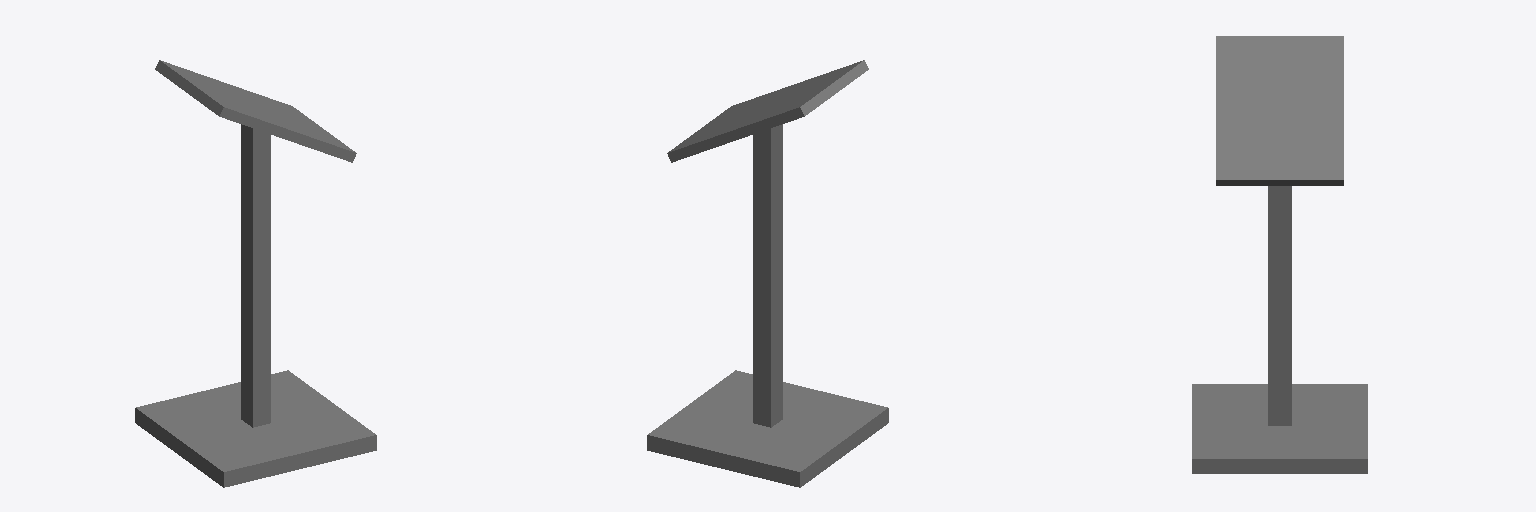
The model's file is button_bottom.obj.
3 views of the same model, side by side, from view 1: azimuth 30°, elevation 25°; view 2: azimuth 150°, elevation 25°; view 3: azimuth 270°, elevation 25° (orthographic).
Parts seen in each view (by area): view 1: Cube.002; view 2: Cube.002; view 3: Cube.002.
Boxes of the visible parts, <box> form: Cube.002: <box>135,60,376,487</box>; Cube.002: <box>647,60,888,487</box>; Cube.002: <box>1192,36,1367,473</box>.
Size of the model in its own units: 2 by 4.7 by 2.